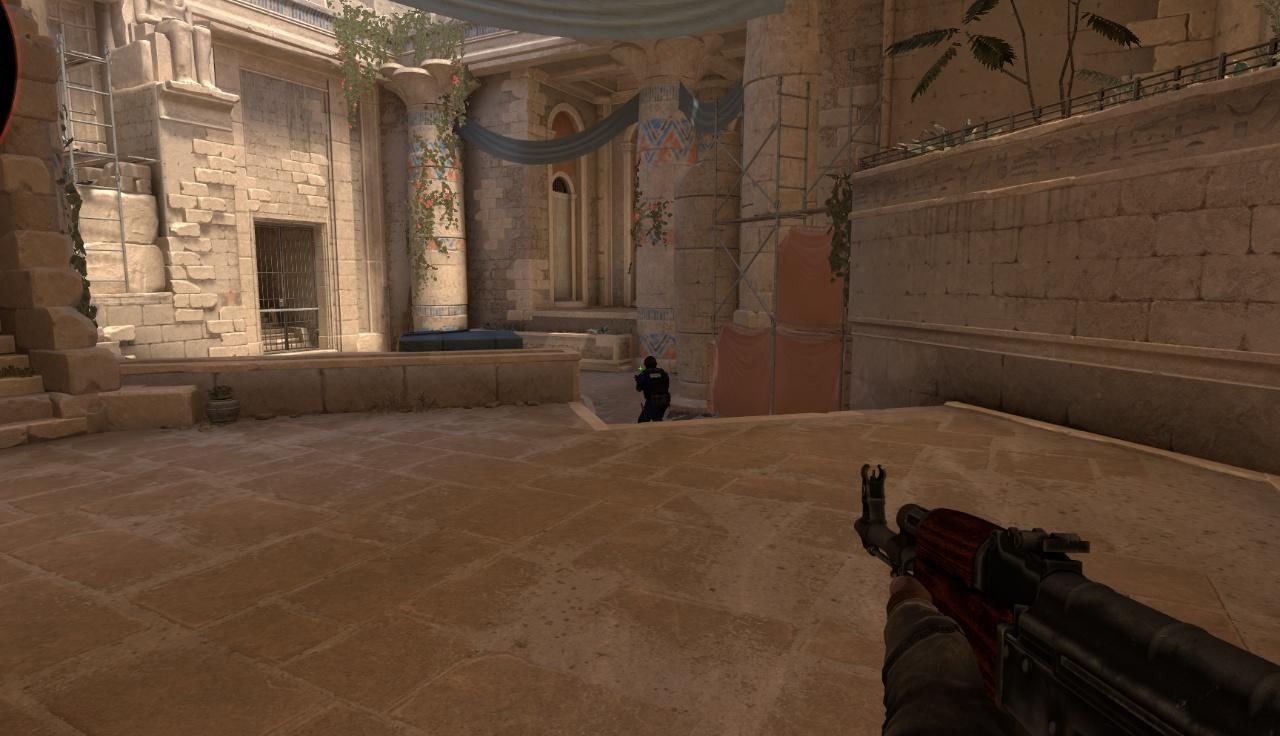ct: (636, 355, 670, 422)
cthead: (644, 356, 657, 367)
rifle: (854, 464, 1280, 736)
